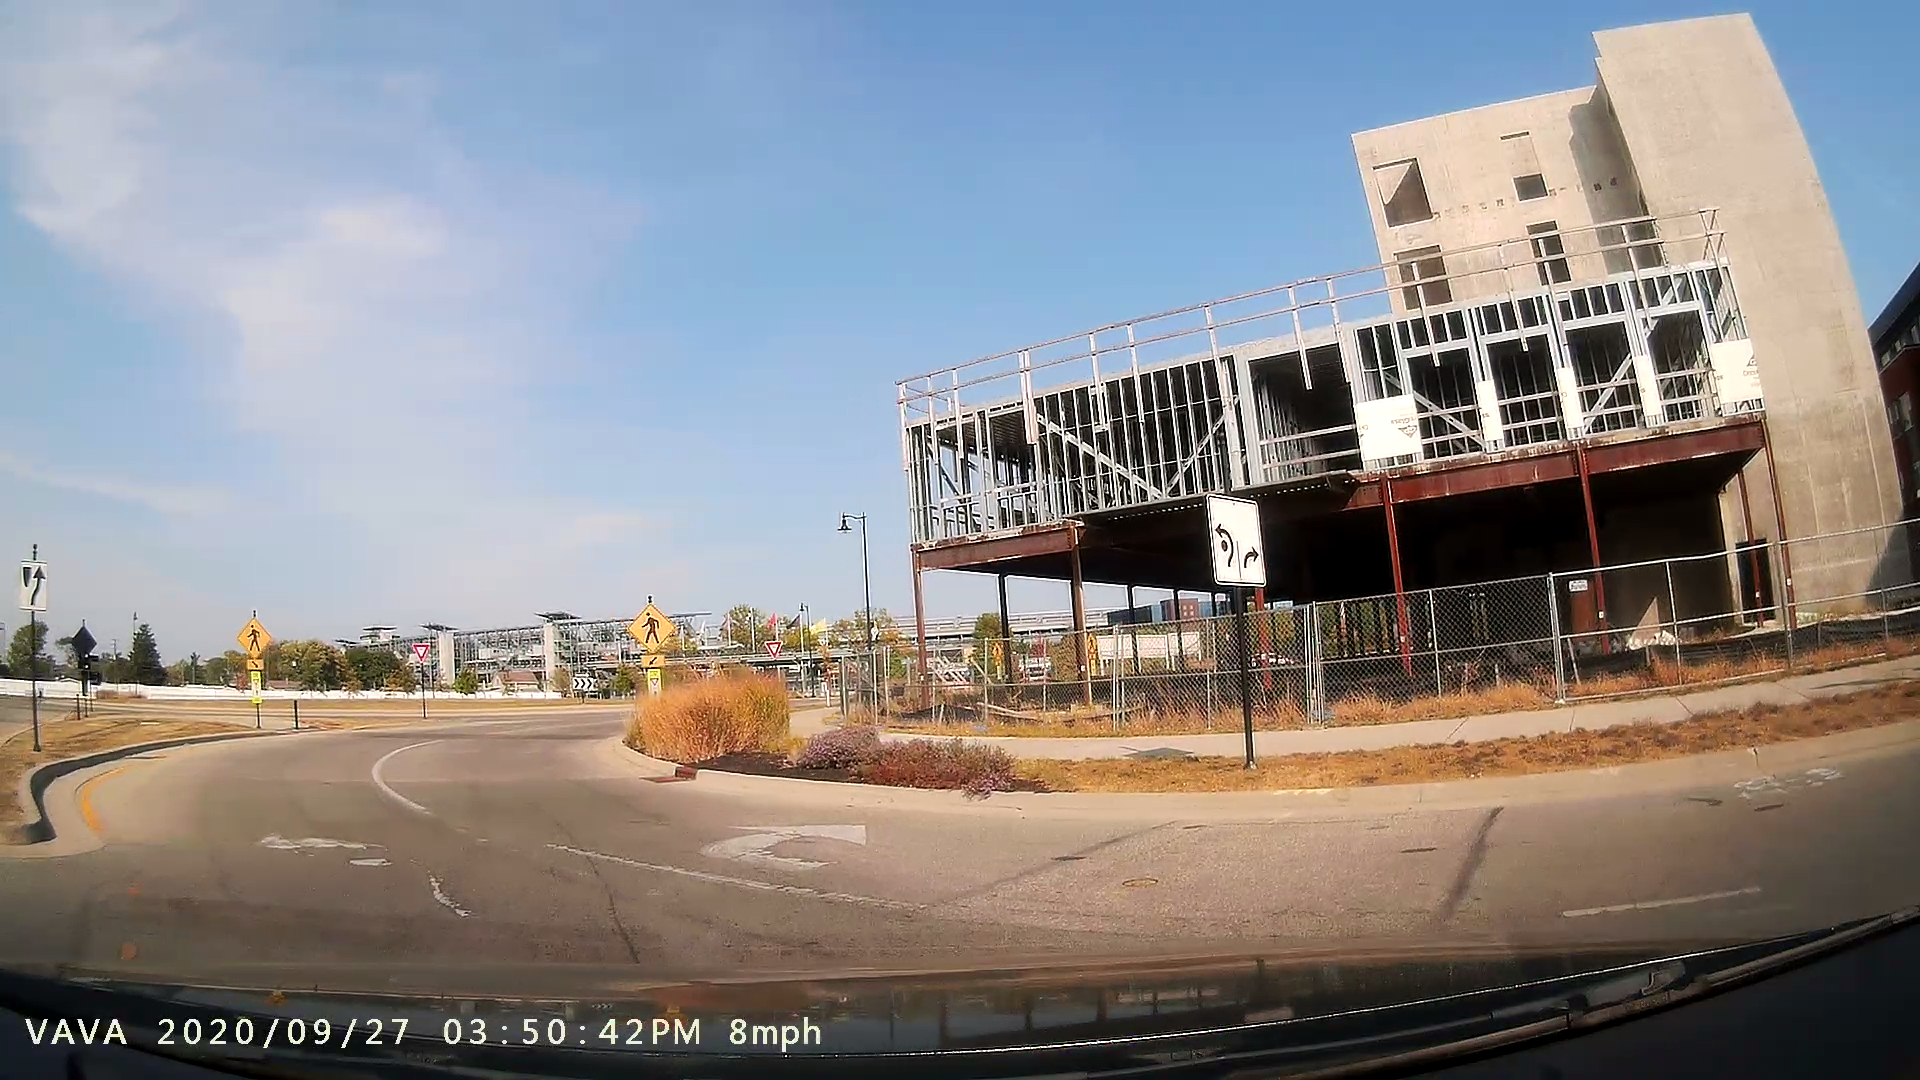right_turn: (688, 808, 872, 876)
